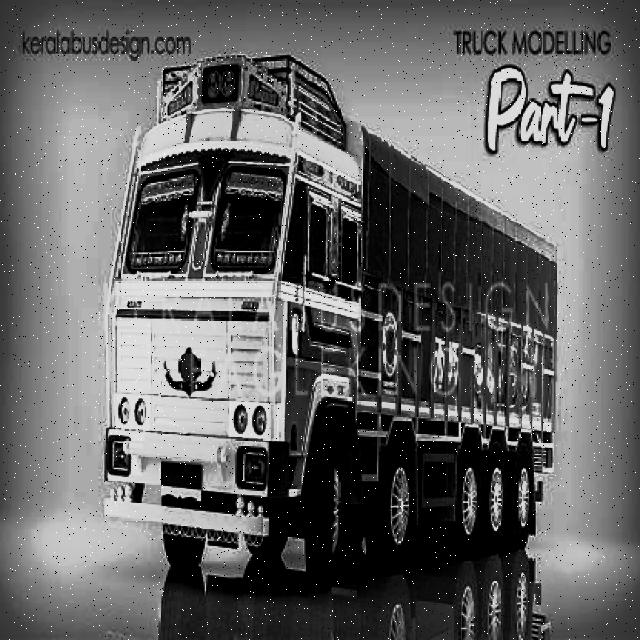HCV: (123, 77, 565, 592)
